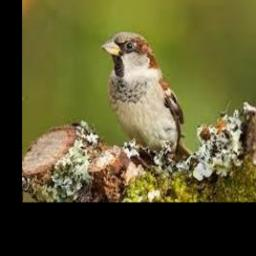Sparrow: (101, 32, 193, 163)
